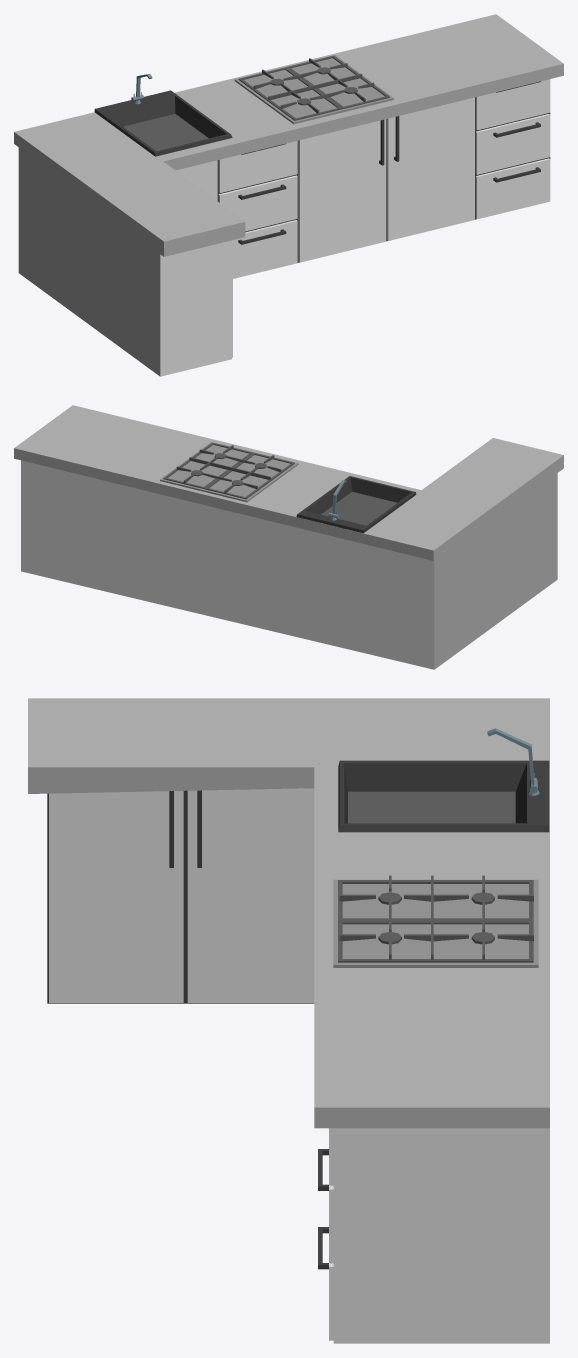
File: kitchen_item_047.fbx
3 views of the same model, one above another, from view 1: azimuth 30°, elevation 25°; view 2: azimuth 150°, elevation 25°; view 3: azimuth 270°, elevation 25° (orthographic). The views are drawn at different scales.
Visible parts, largest first — view 1: kitchen_item_047; view 2: kitchen_item_047; view 3: kitchen_item_047.
Part boxes in pixels (<box>): kitchen_item_047: <box>14,14,563,376</box>; kitchen_item_047: <box>14,405,563,669</box>; kitchen_item_047: <box>28,698,549,1343</box>.
Size of the model in its own units: 286 by 154 by 102.
